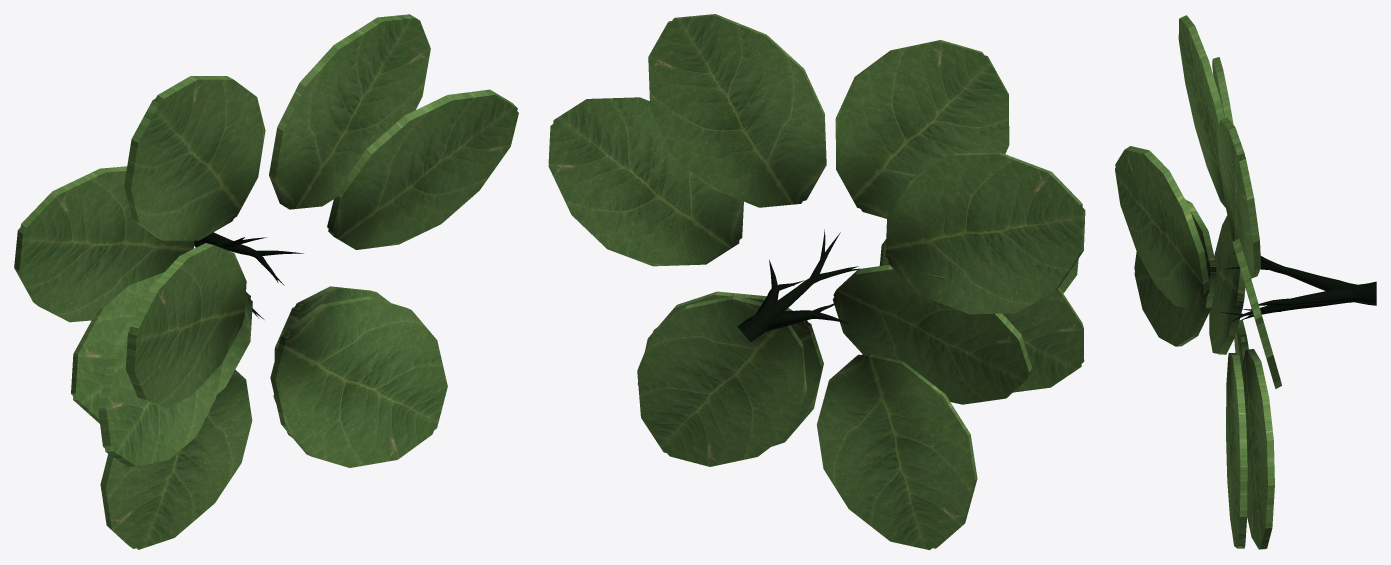
Rendered from plant4.obj.
The picture shows the model from 3 angles, left to right: view 1: azimuth 30°, elevation 25°; view 2: azimuth 150°, elevation 25°; view 3: azimuth 270°, elevation 25°; orthographic projection. The views are drawn at different scales.
Visible parts, largest first — view 1: leaves.006, tree.006; view 2: leaves.006, tree.006; view 3: leaves.006, tree.006.
Part boxes in pixels (left/top/right/bottom): leaves.006: left=14, top=14, right=518, bottom=549; tree.006: left=194, top=232, right=303, bottom=319; leaves.006: left=548, top=14, right=1085, bottom=550; tree.006: left=737, top=229, right=859, bottom=342; leaves.006: left=1115, top=15, right=1281, bottom=549; tree.006: left=1218, top=253, right=1376, bottom=323.
Size of the model in its own units: 0.0871 by 0.0781 by 0.0412.
Materials: 2 (1 with a texture image).
